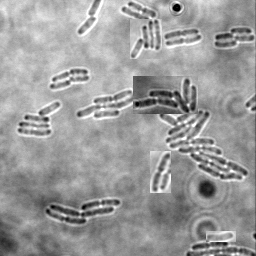Dividing: (150, 151, 171, 193), (52, 67, 89, 81), (128, 1, 157, 18), (166, 34, 202, 47), (164, 28, 200, 39), (192, 239, 229, 249)
Microcolony: (158, 109, 249, 180), (133, 76, 198, 114), (76, 88, 139, 119), (45, 199, 121, 224), (18, 101, 61, 136), (130, 19, 162, 59), (214, 27, 255, 48), (206, 231, 236, 242)
Rod: (121, 5, 150, 23), (78, 16, 99, 34), (50, 79, 72, 89), (69, 73, 90, 82)
